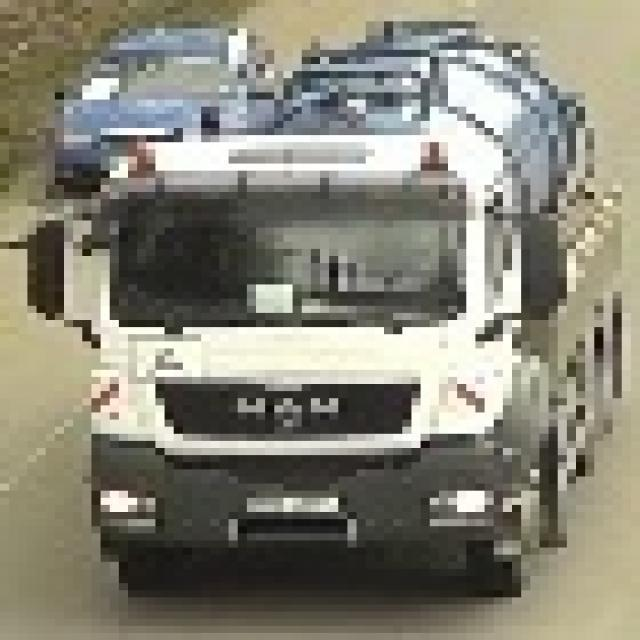truck: (37, 7, 640, 590)
